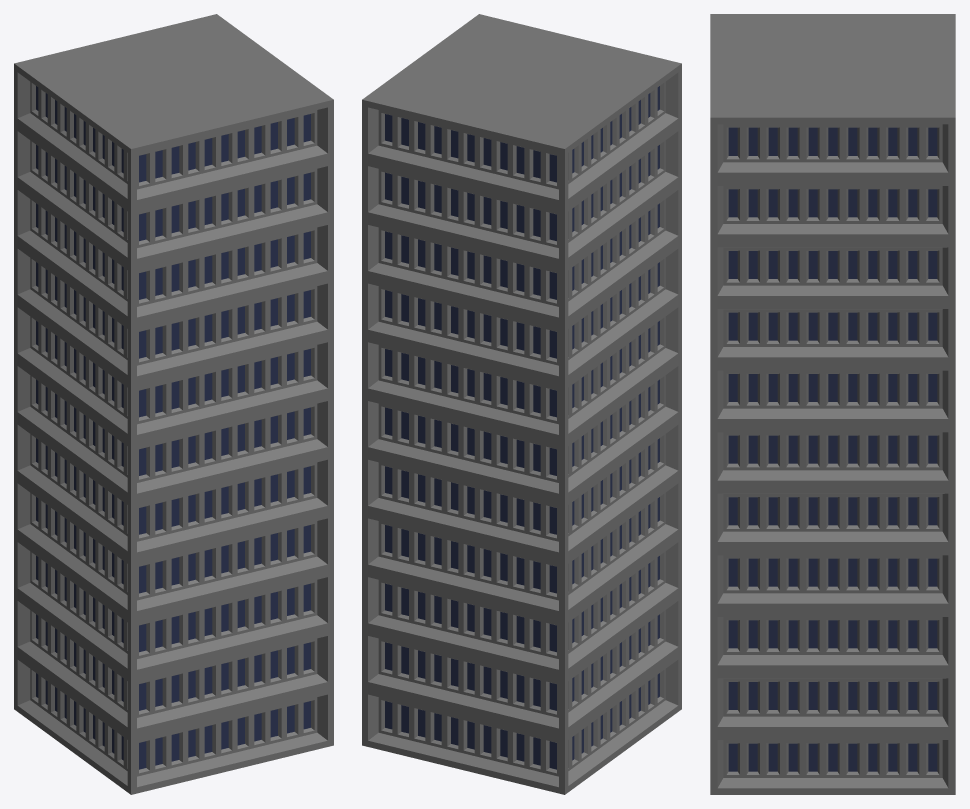
File: Skyscraper.fbx
3 renders of one model, left to right at view 1: azimuth 30°, elevation 25°; view 2: azimuth 150°, elevation 25°; view 3: azimuth 270°, elevation 25°, orthographic. The views are drawn at different scales.
Visible parts, largest first — view 1: pCube1; view 2: pCube1; view 3: pCube1.
Part boxes in pixels (x1,y1,x2,y2): pCube1: (14, 14, 333, 794); pCube1: (362, 14, 681, 794); pCube1: (710, 14, 955, 794).
Size of the model in its own units: 74.96 by 228 by 74.96.
